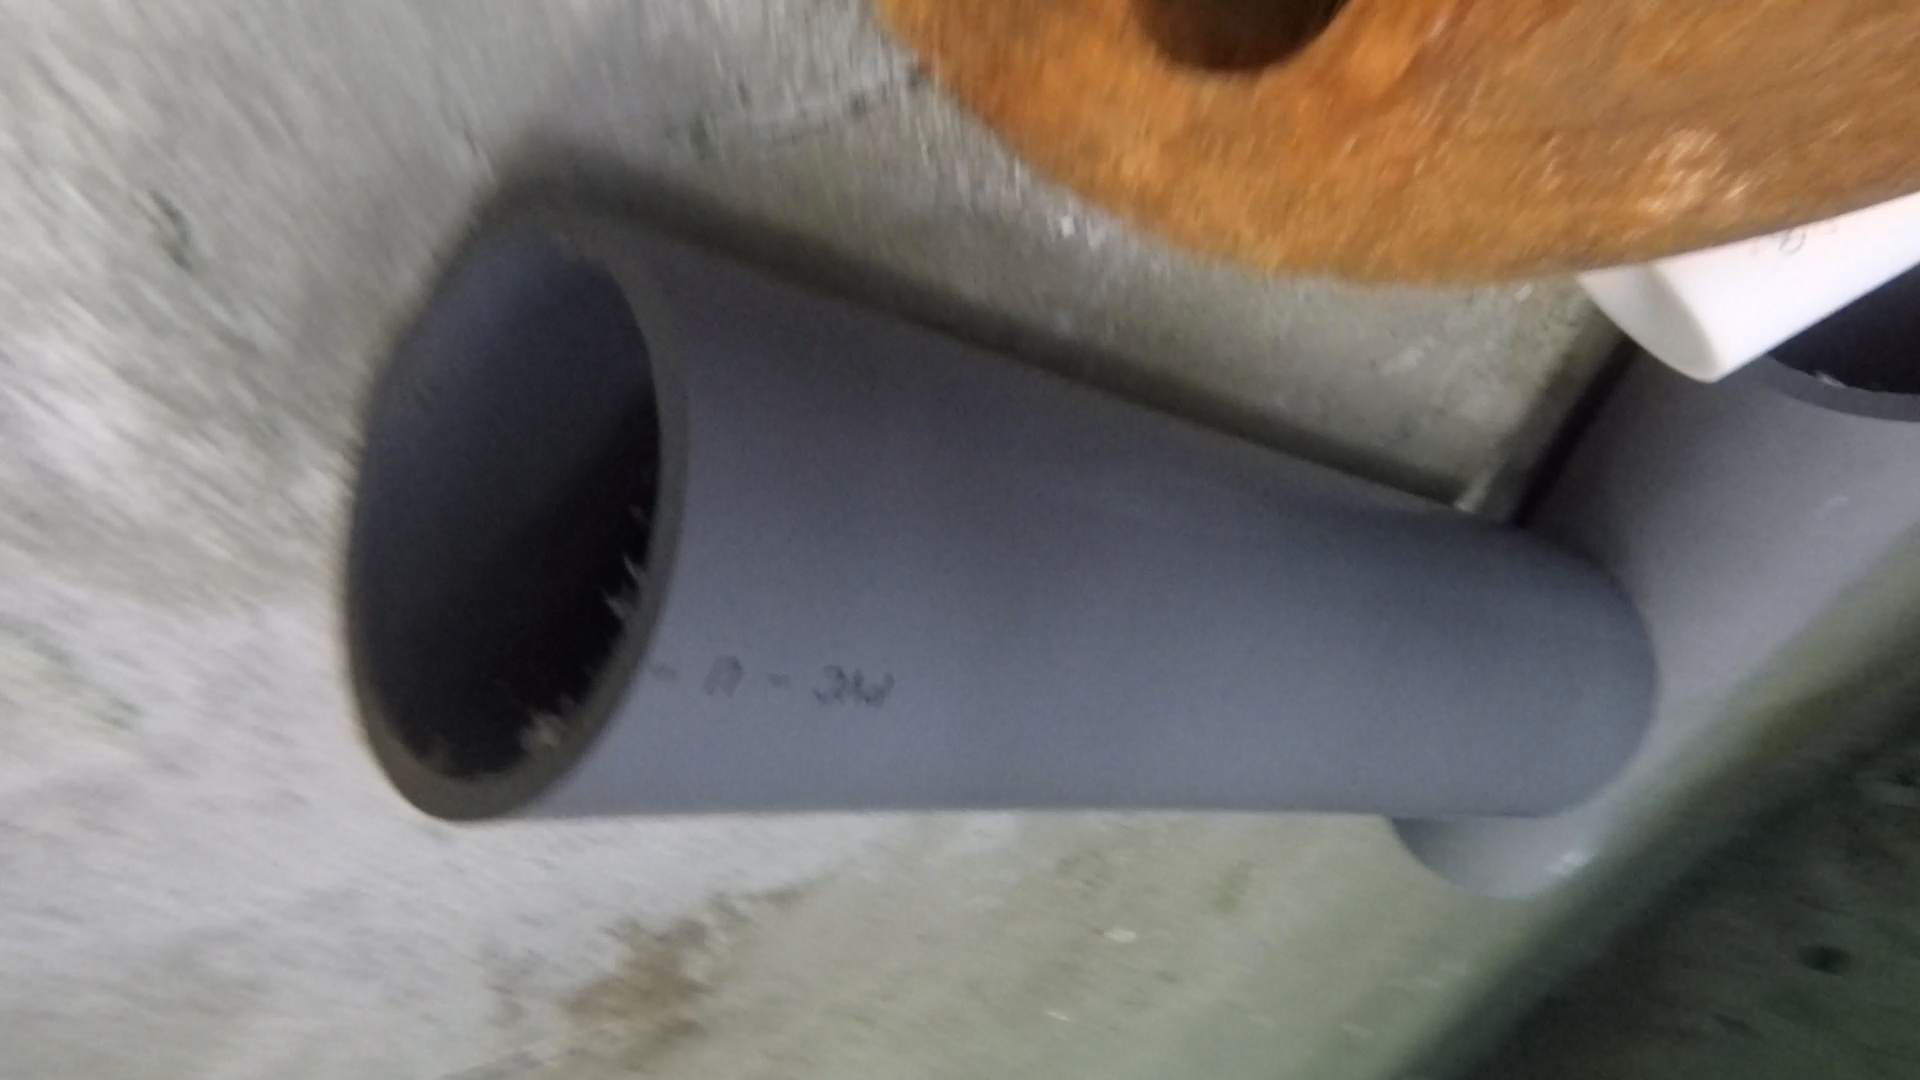flange: (862, 1, 1920, 286)
pipe: (345, 199, 1654, 824), (1390, 262, 1919, 901), (1578, 194, 1920, 386)
